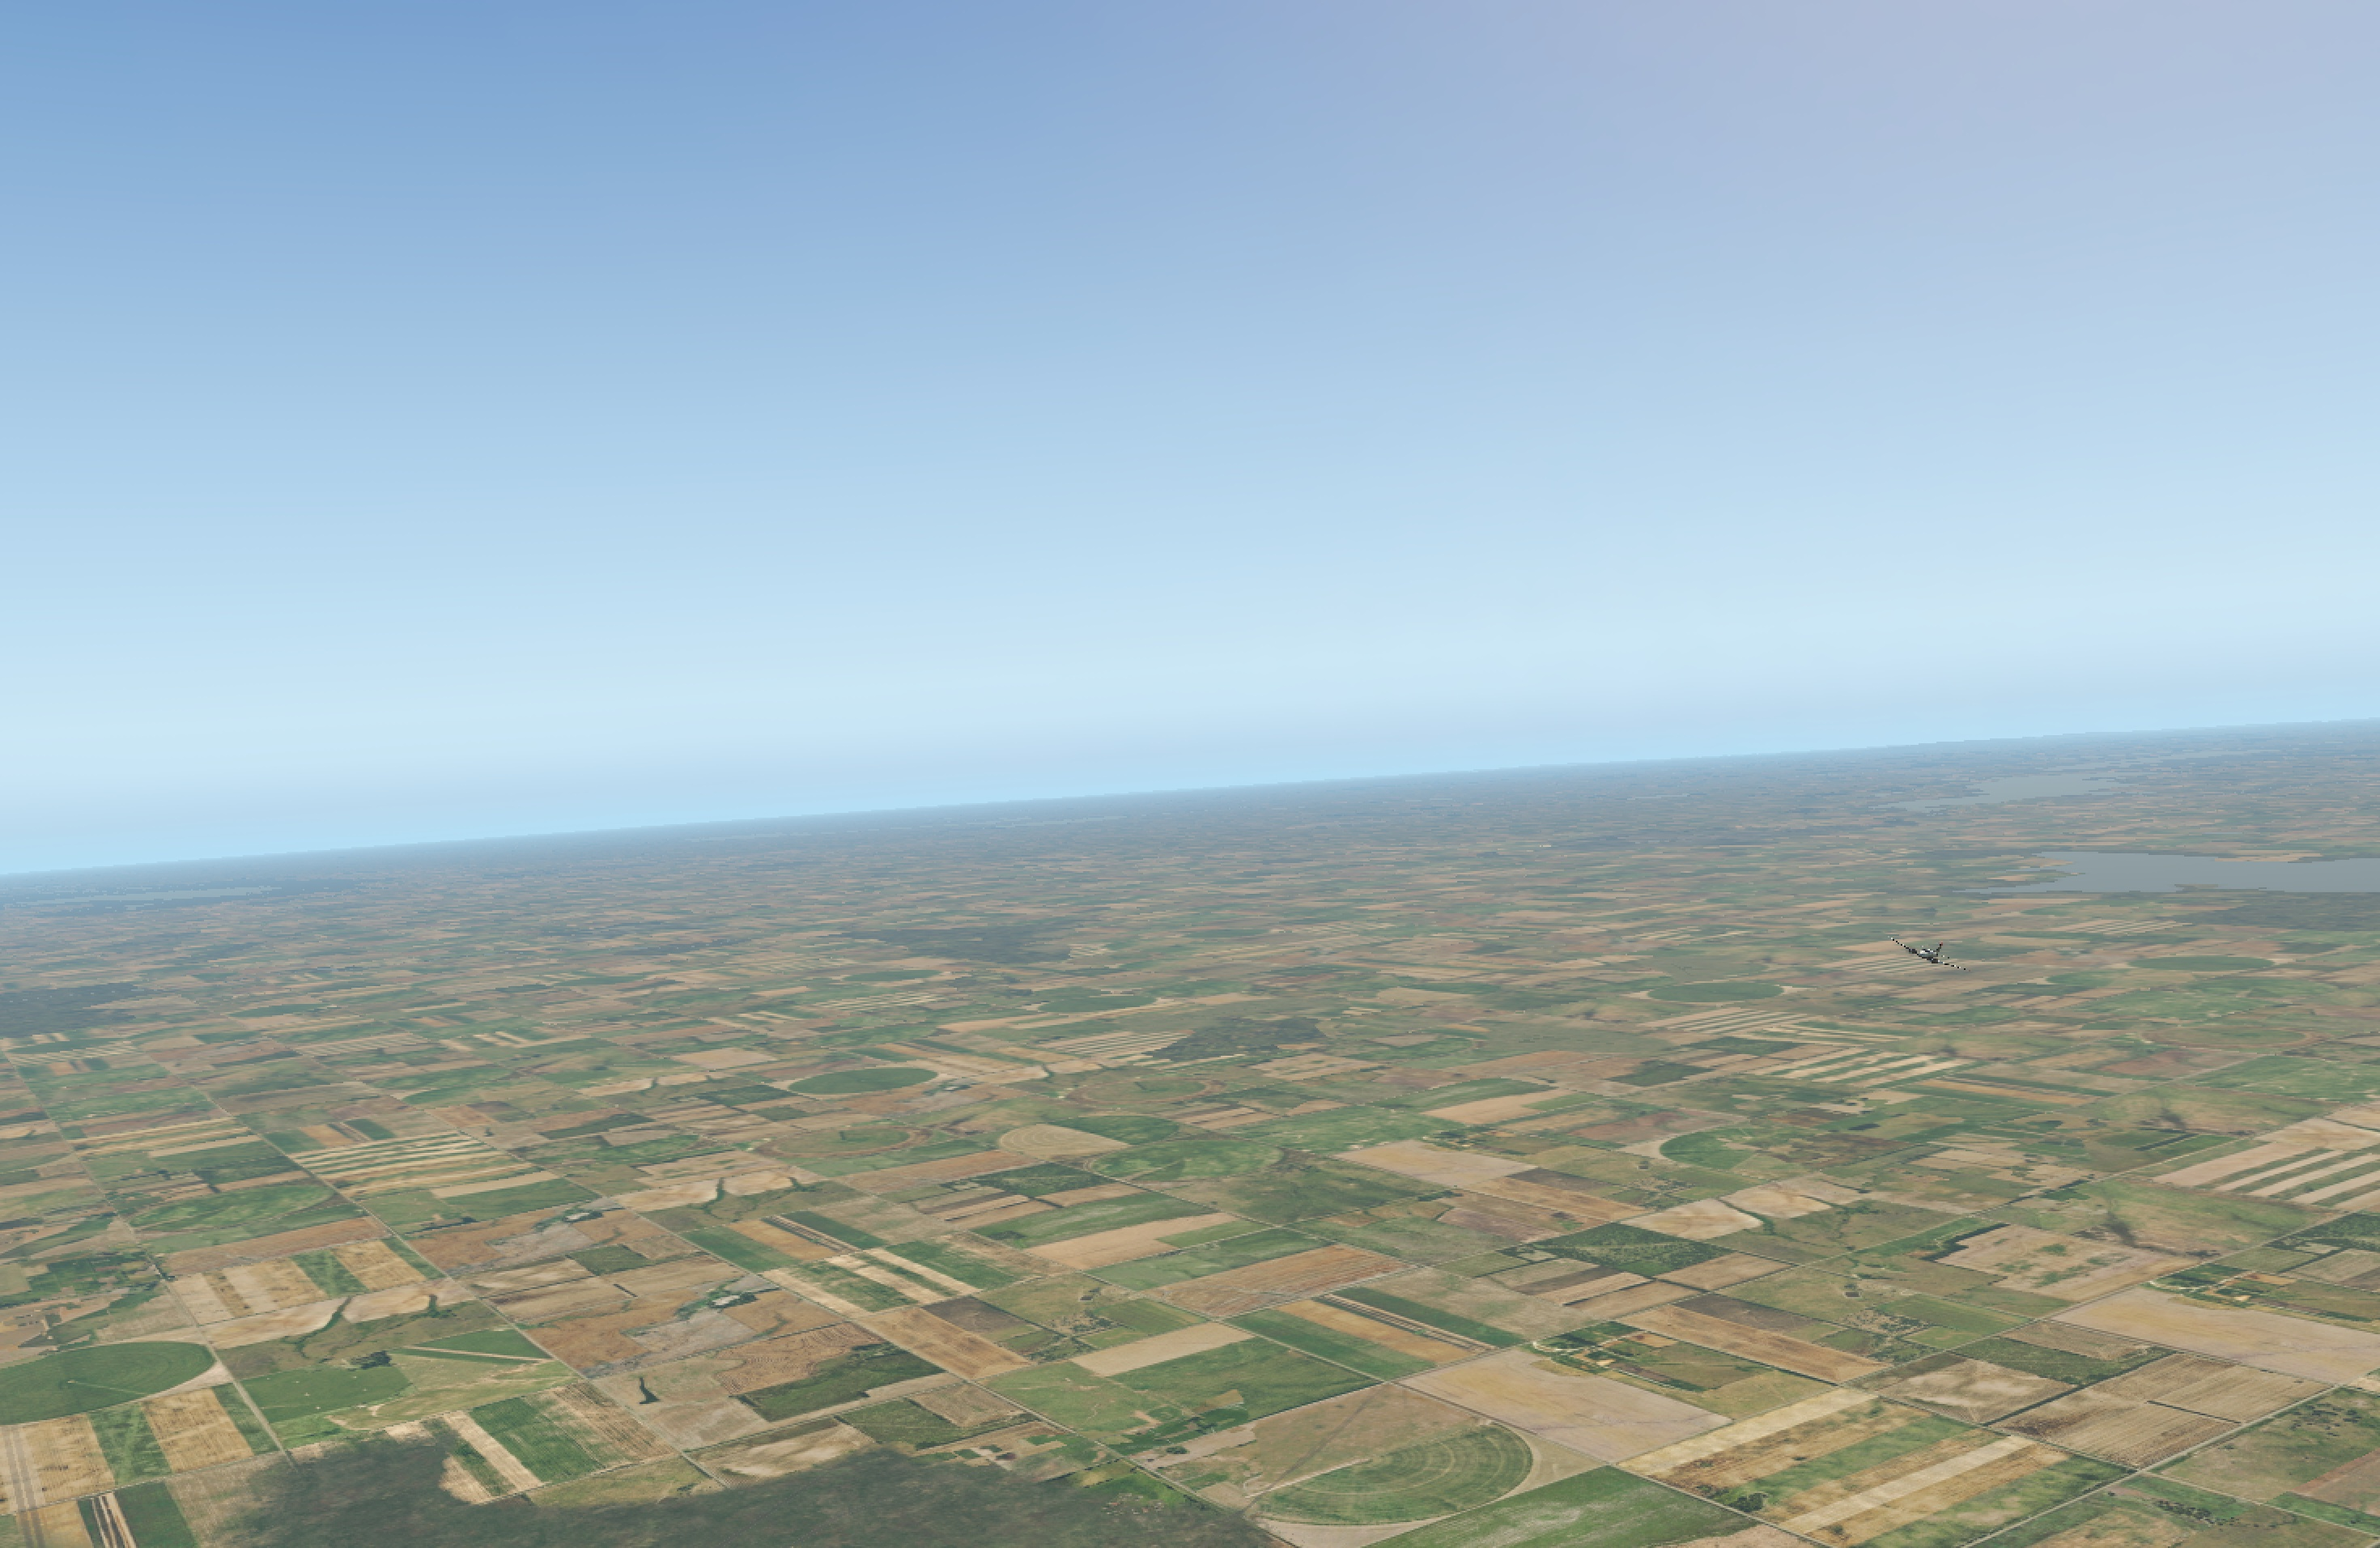aircraft: (1882, 942, 1967, 974)
